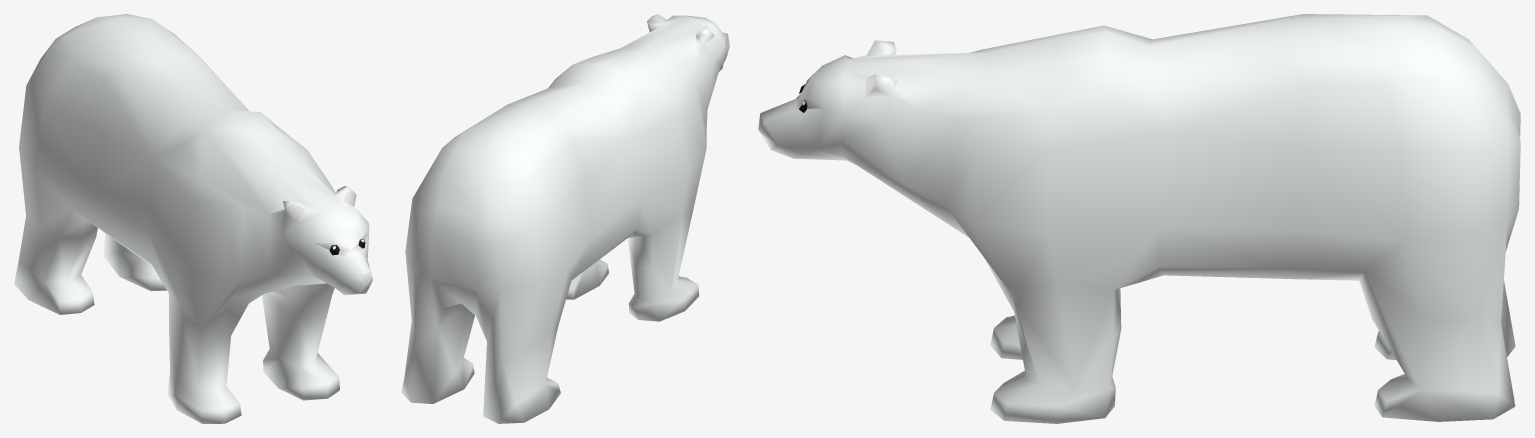
File: e4a4b446-edfe-48e1-9f16-ddb838f60069.glb
The picture shows the model from 3 angles, left to right: view 1: azimuth 30°, elevation 25°; view 2: azimuth 150°, elevation 25°; view 3: azimuth 270°, elevation 25°; orthographic projection. The views are drawn at different scales.
Parts seen in each view (by area): view 1: PolarBear; view 2: PolarBear; view 3: PolarBear.
Boxes of the visible parts, x1,y1,x2,y2 form: PolarBear: (14,14,372,423); PolarBear: (401,14,729,423); PolarBear: (758,14,1520,423).
Size of what is drawn, in the model's own units: 0.9426 by 1.54 by 2.99.
1 material, 1 textured.
